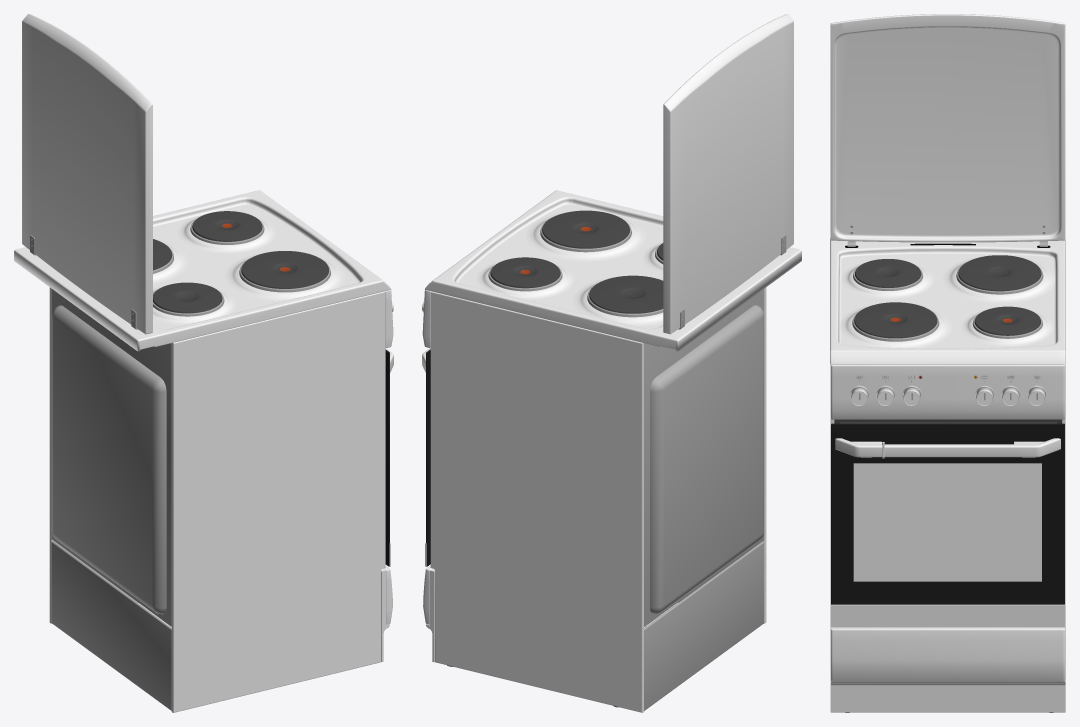
The model's file is Hansa Integra FCEW 54120.FBX.
The picture shows the model from 3 angles, left to right: view 1: azimuth 30°, elevation 25°; view 2: azimuth 150°, elevation 25°; view 3: azimuth 270°, elevation 25°; orthographic projection. The views are drawn at different scales.
Visible parts, largest first — view 1: Line053, ChamferBox015, Box039, Box019, Cone001, Cone009, Cone003, Line055, Object007; view 2: Line055, ChamferBox015, Box039, Box019, Cone010, Cone001, Cone003, Line053, Object007; view 3: Box039, Object007, Box019, Box026, Box025, Line054, Box028, Box037, Cone010, Cone001, Cone009, Cone003 (+2 smaller).
Boxes of the visible parts, bbox=[...] form: Line053: bbox=[171, 291, 385, 712]; ChamferBox015: bbox=[51, 289, 171, 710]; Box039: bbox=[22, 14, 152, 334]; Box019: bbox=[14, 190, 391, 351]; Cone001: bbox=[241, 251, 328, 288]; Cone009: bbox=[153, 282, 222, 313]; Cone003: bbox=[192, 211, 262, 241]; Line055: bbox=[49, 287, 137, 623]; Object007: bbox=[385, 349, 389, 566]; Line055: bbox=[430, 291, 643, 712]; ChamferBox015: bbox=[644, 289, 764, 710]; Box039: bbox=[663, 14, 793, 334]; Box019: bbox=[425, 190, 801, 351]; Cone010: bbox=[587, 275, 663, 317]; Cone001: bbox=[542, 210, 629, 248]; Cone003: bbox=[490, 257, 560, 288]; Line053: bbox=[678, 287, 766, 623]; Object007: bbox=[426, 349, 430, 566]; Box039: bbox=[830, 14, 1065, 242]; Object007: bbox=[831, 422, 1064, 604]; Box019: bbox=[830, 238, 1065, 364]; Box026: bbox=[830, 627, 1065, 681]; Box025: bbox=[830, 365, 1065, 419]; Line054: bbox=[830, 626, 1065, 712]; Box028: bbox=[830, 604, 1065, 627]; Box037: bbox=[835, 438, 1060, 457]; Cone010: bbox=[956, 255, 1043, 294]; Cone001: bbox=[854, 302, 937, 338]; Cone009: bbox=[855, 259, 921, 287]; Cone003: bbox=[974, 306, 1040, 335].
Size of the model in its own units: 63.31 by 140 by 50.21.
Materials: 17 (1 with a texture image).
